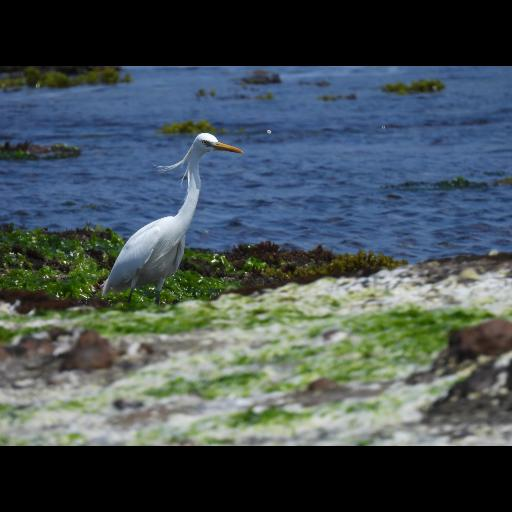chinese_egret: (100, 133, 244, 305)
